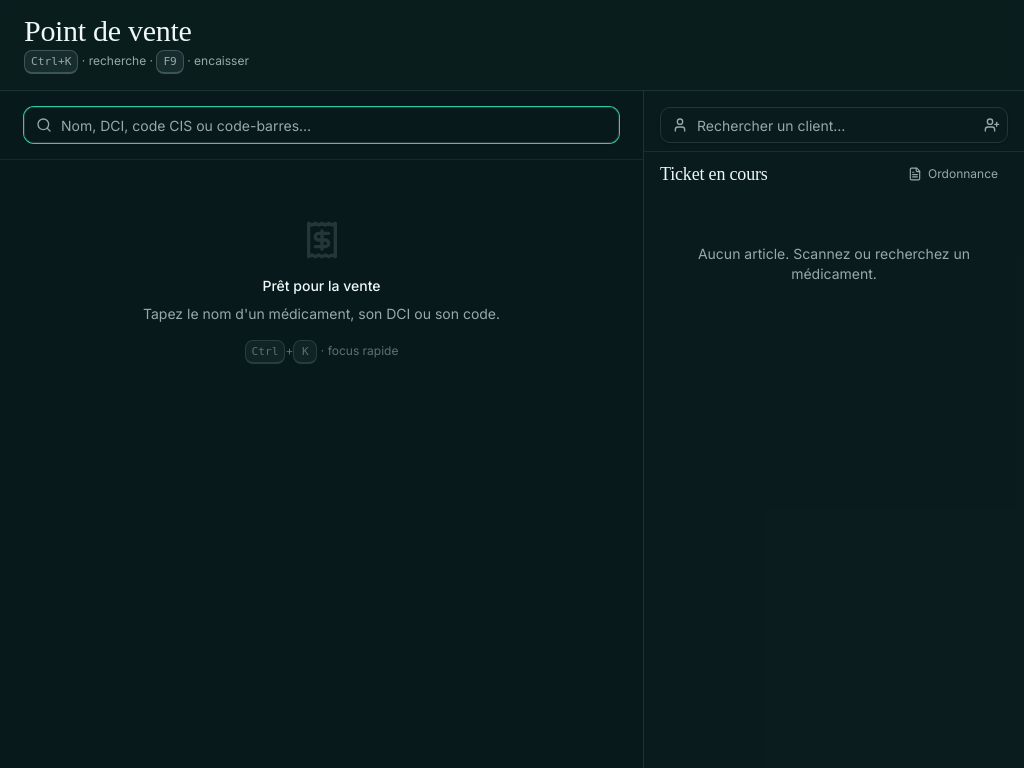
Test: ScreenPOS — comportement métier du point de vente › ajoute, incrémente, décrémente et supprime une ligne du panier
In the field with placeholder "Nom, DCI, code CIS ou code-barres…": (322, 125) [24,107,619,143], type "Para"
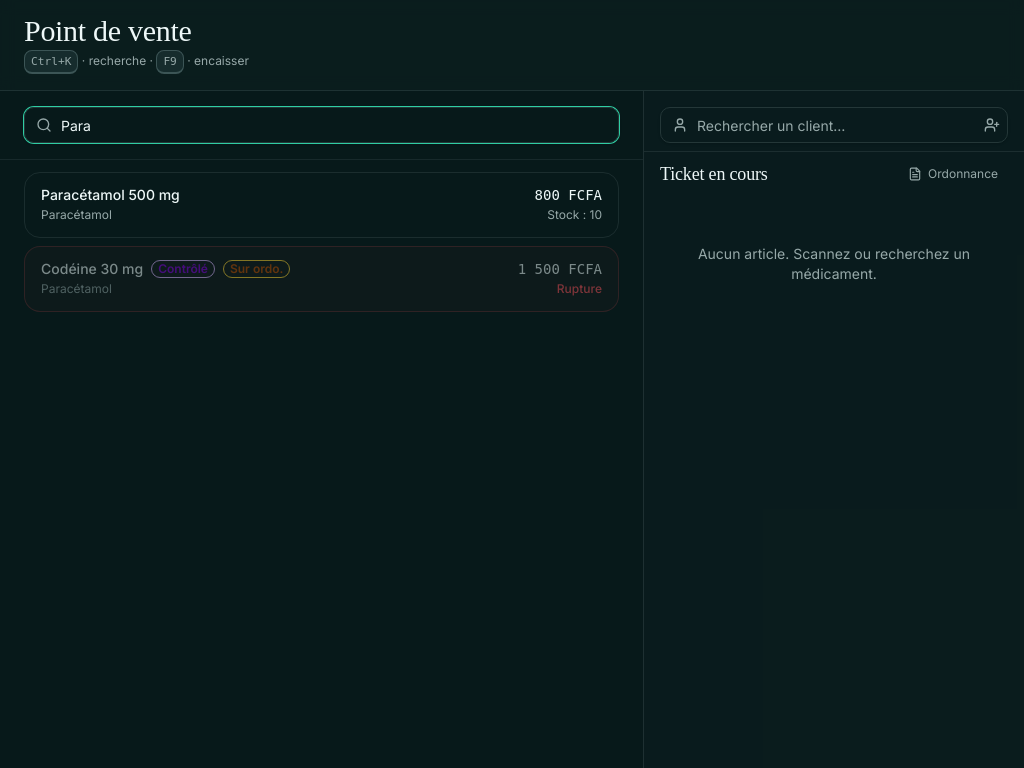
Click the button "Paracétamol 500 mg": click(110, 194) [24,172,619,238]
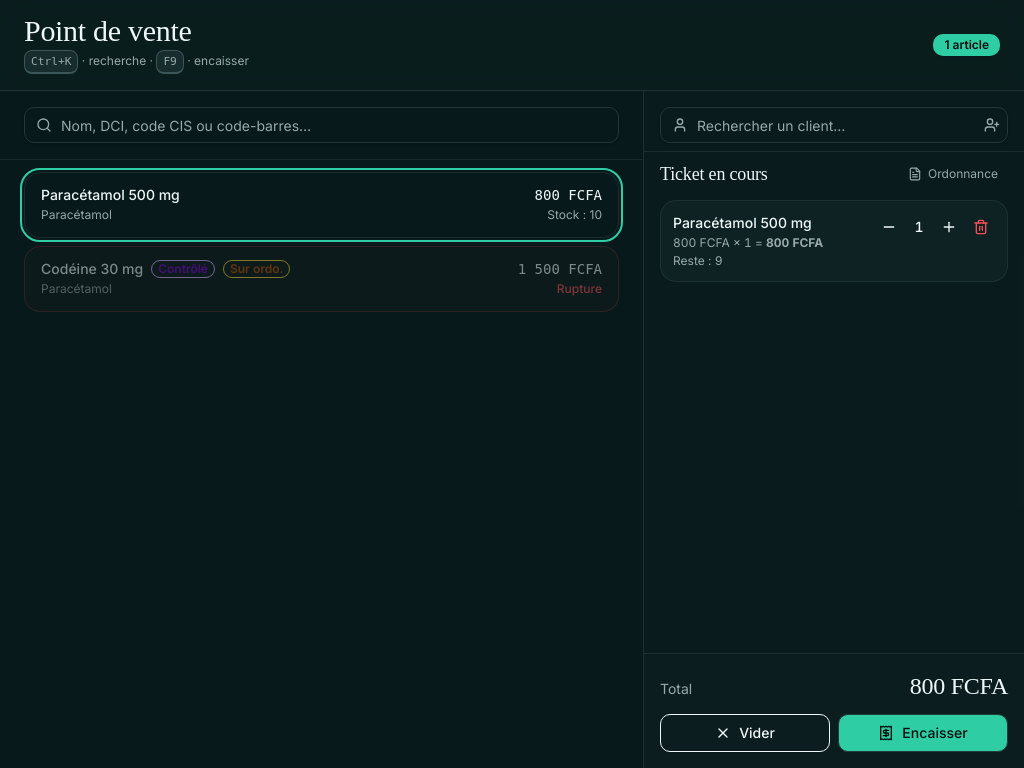
Check: the text "1 article" is shown, box [933,34,1000,56]
Check: the list item "Paracétamol 500 mg" shows "× 1", box [660,200,1008,282]
Click the 5th button: click(949, 227) [935,213,963,241]
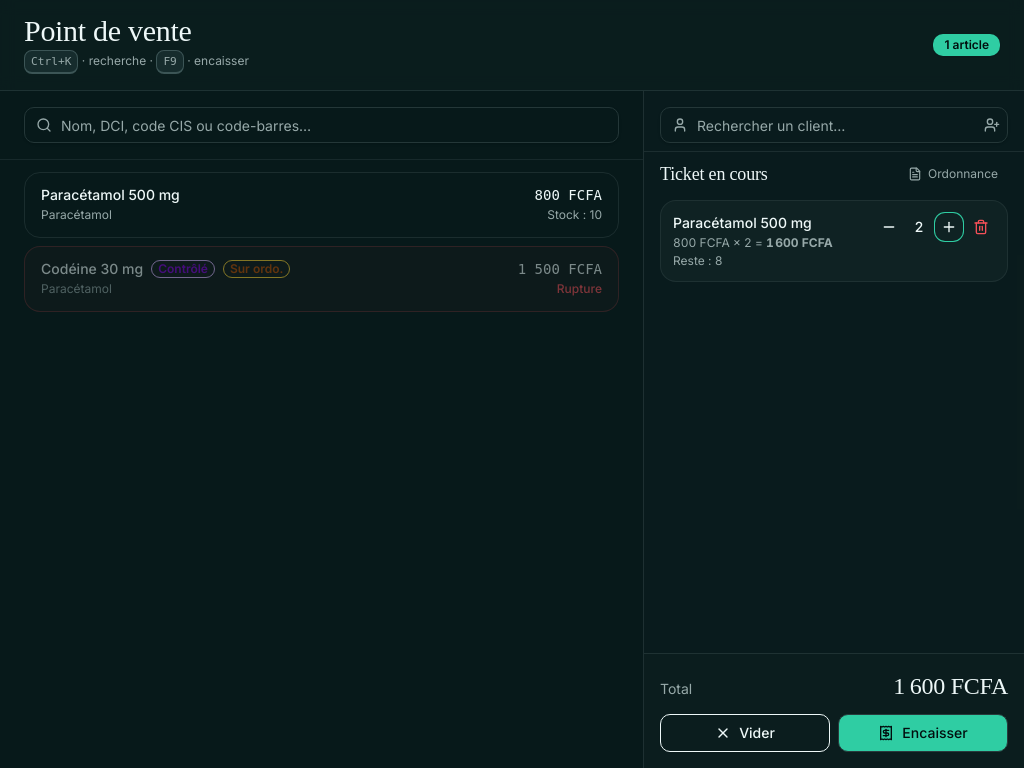
Check: the list item "Paracétamol 500 mg" shows "× 2", box [660,200,1008,282]
Click the 4th button: click(889, 227) [875,213,903,241]
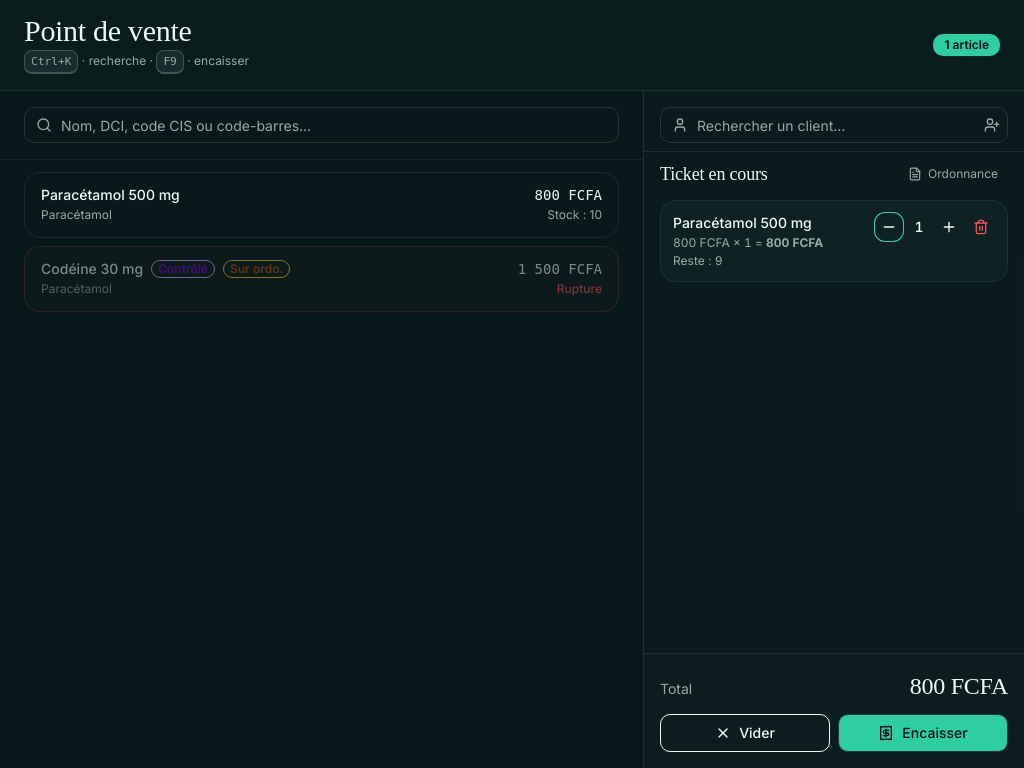
Check: the list item "Paracétamol 500 mg" shows "× 1", box [660,200,1008,282]
Click the 6th button: click(981, 227) [967,213,995,241]
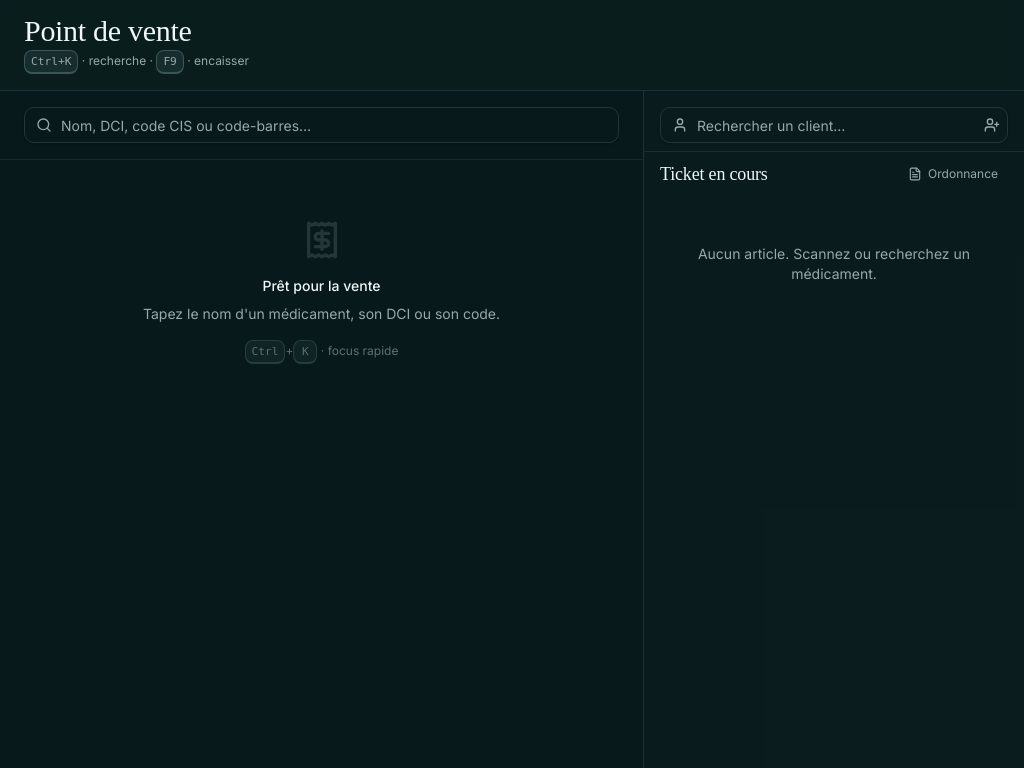
Check: the text "Aucun article. Scannez ou recherchez un médicament." is shown, box [698,245,970,282]
